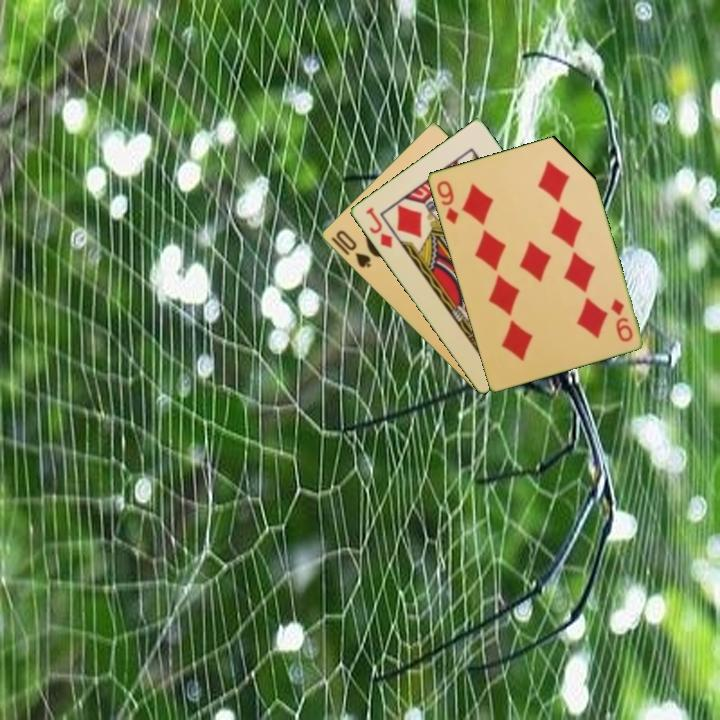10s: (332, 226, 373, 271)
9d: (433, 177, 461, 227), (607, 295, 635, 345)
Jd: (362, 203, 395, 251)
